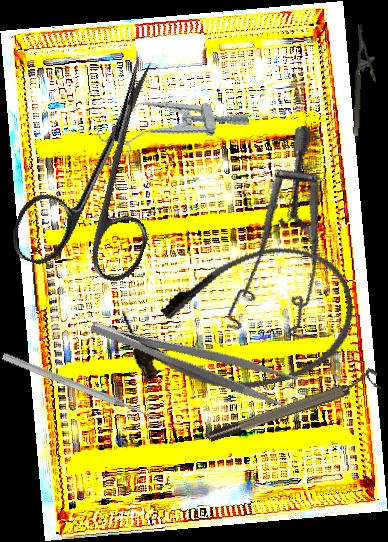Cannula: (116, 233, 366, 413)
Dressing Forceps: (88, 300, 299, 412)
Fixation Ring: (204, 366, 383, 446)
Iris Scissors: (5, 36, 204, 296)
Needle Holder: (352, 23, 379, 137)
Pusher: (0, 351, 160, 424)
Speculum: (177, 124, 367, 359), (89, 80, 253, 169)
